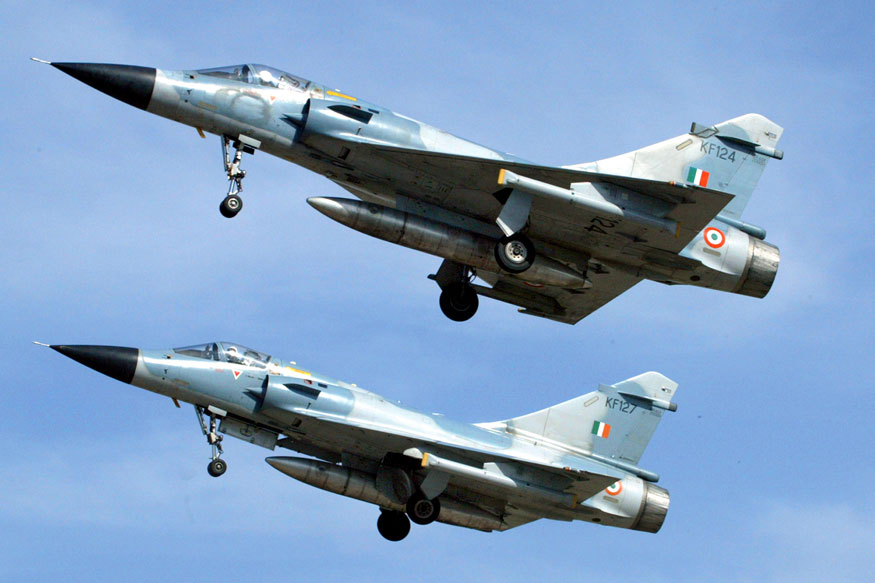aeroplane: (29, 28, 787, 333), (40, 303, 685, 554)
